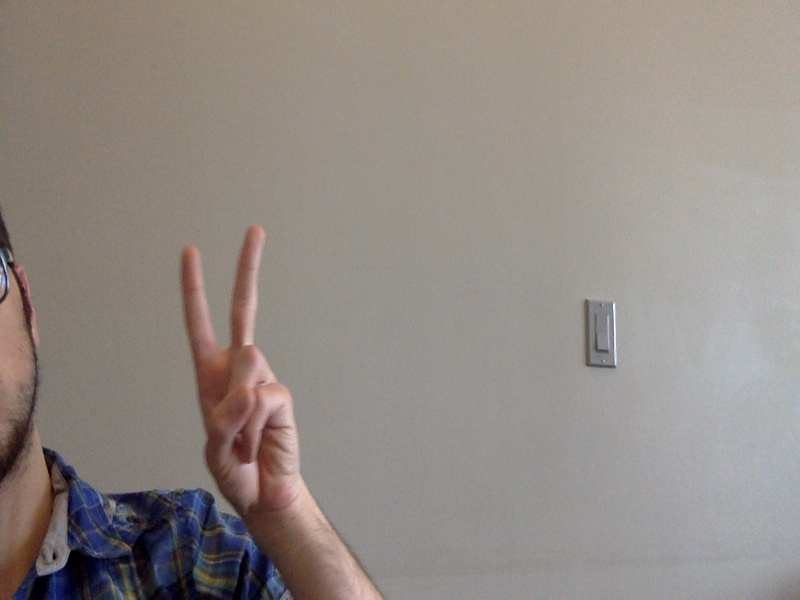2-hand: (179, 224, 320, 523)
